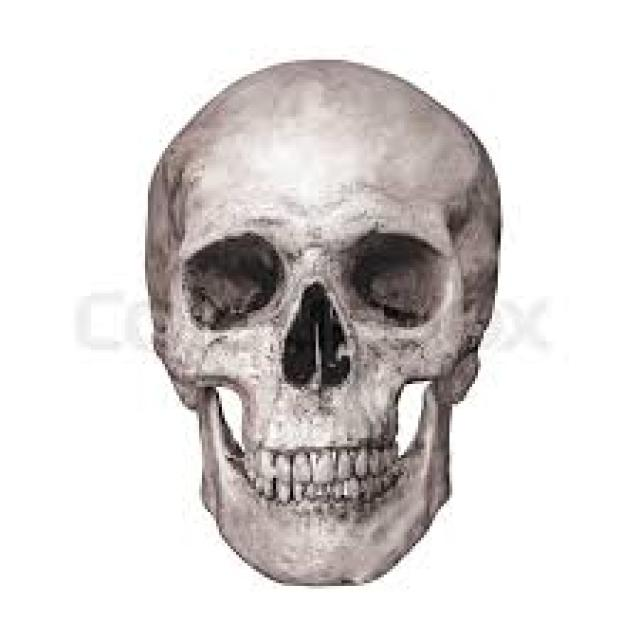skull: (136, 50, 503, 587)
